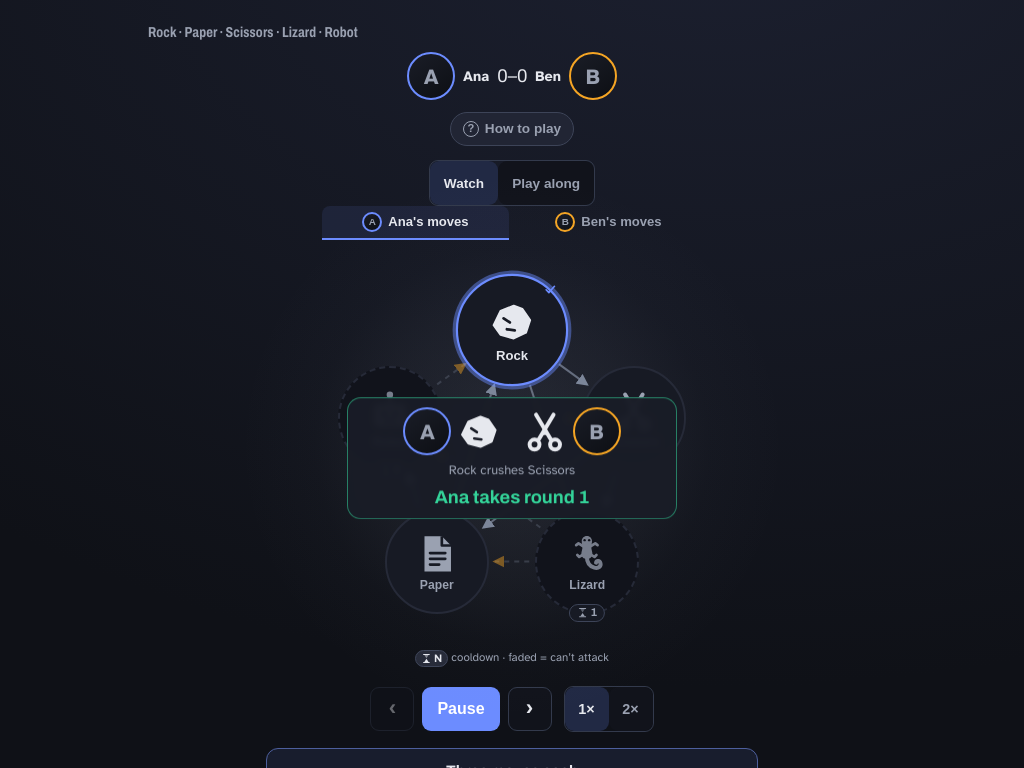
Test case: <ReplayPage> first-visit rules › reopens them from the header
Expected: the text "Ana" is shown, [463,67,489,85]
Click the button "? How to play" at coordinates (512, 129), box [450,112,574,146]
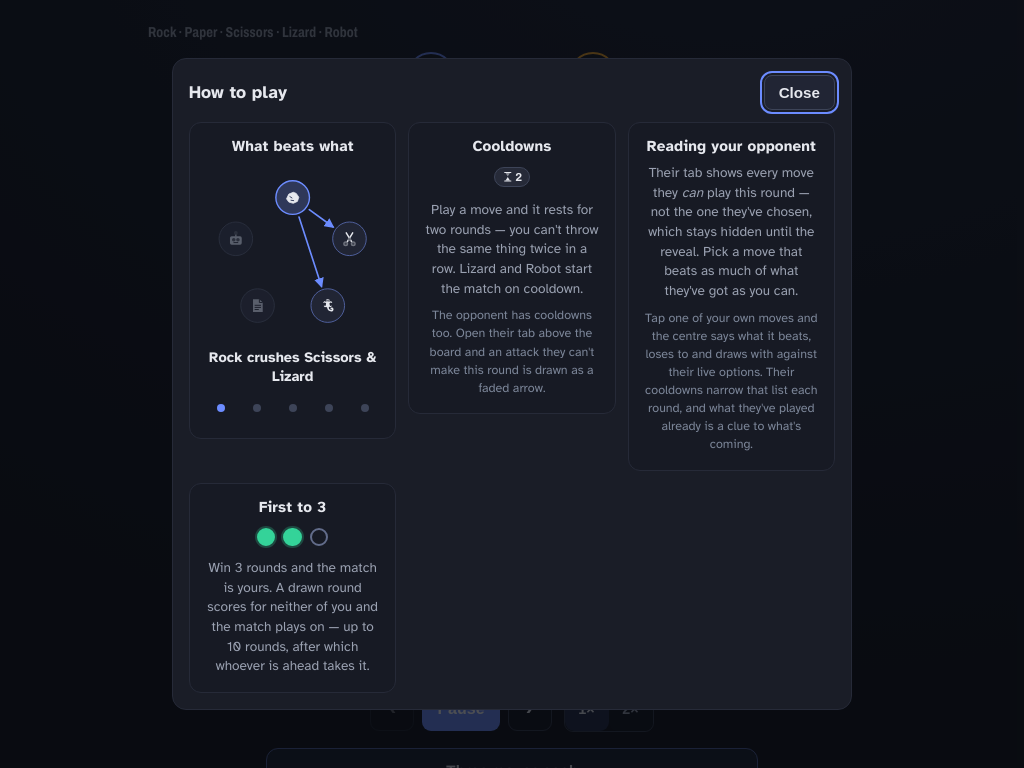
Result: the element with class "htp-dialog" is shown
